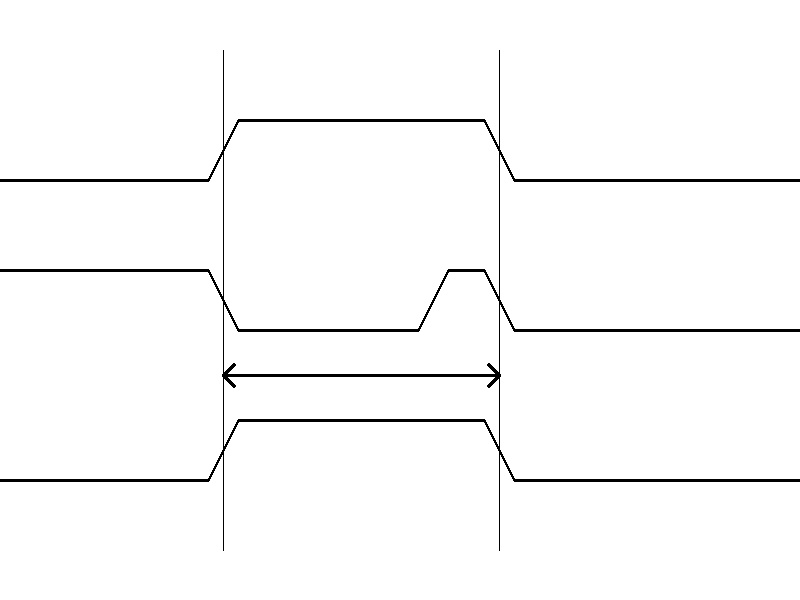double_arrow: (223, 360, 499, 390)
